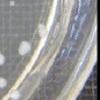white: (8, 87, 24, 100), (19, 39, 33, 53), (0, 50, 7, 69), (36, 22, 47, 33), (17, 45, 27, 57), (0, 76, 8, 91), (38, 29, 49, 39), (8, 0, 16, 8)
